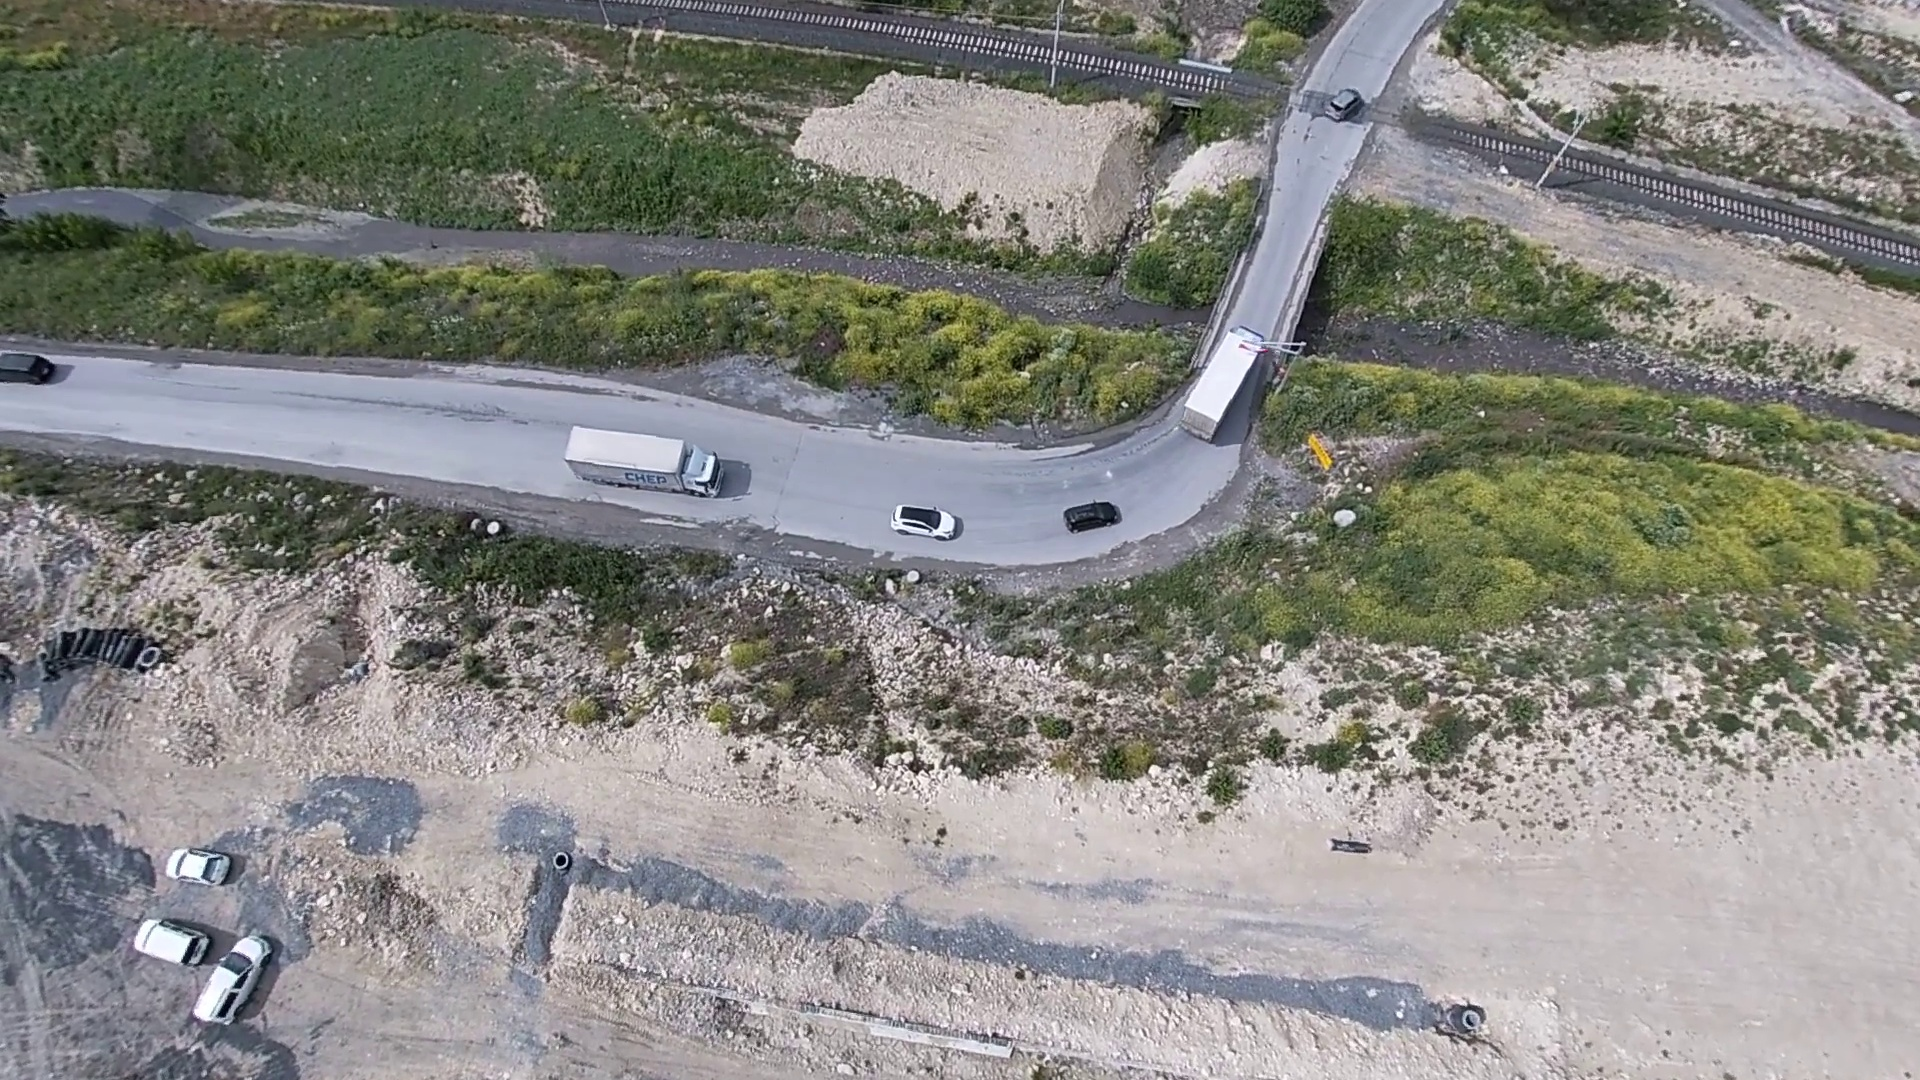araba: (193, 931, 278, 1025), (125, 920, 208, 973), (160, 837, 233, 889), (884, 504, 963, 549), (1323, 83, 1367, 127), (1062, 502, 1133, 529), (1, 349, 55, 382)
kamyon: (560, 423, 727, 498), (1178, 327, 1265, 451)
